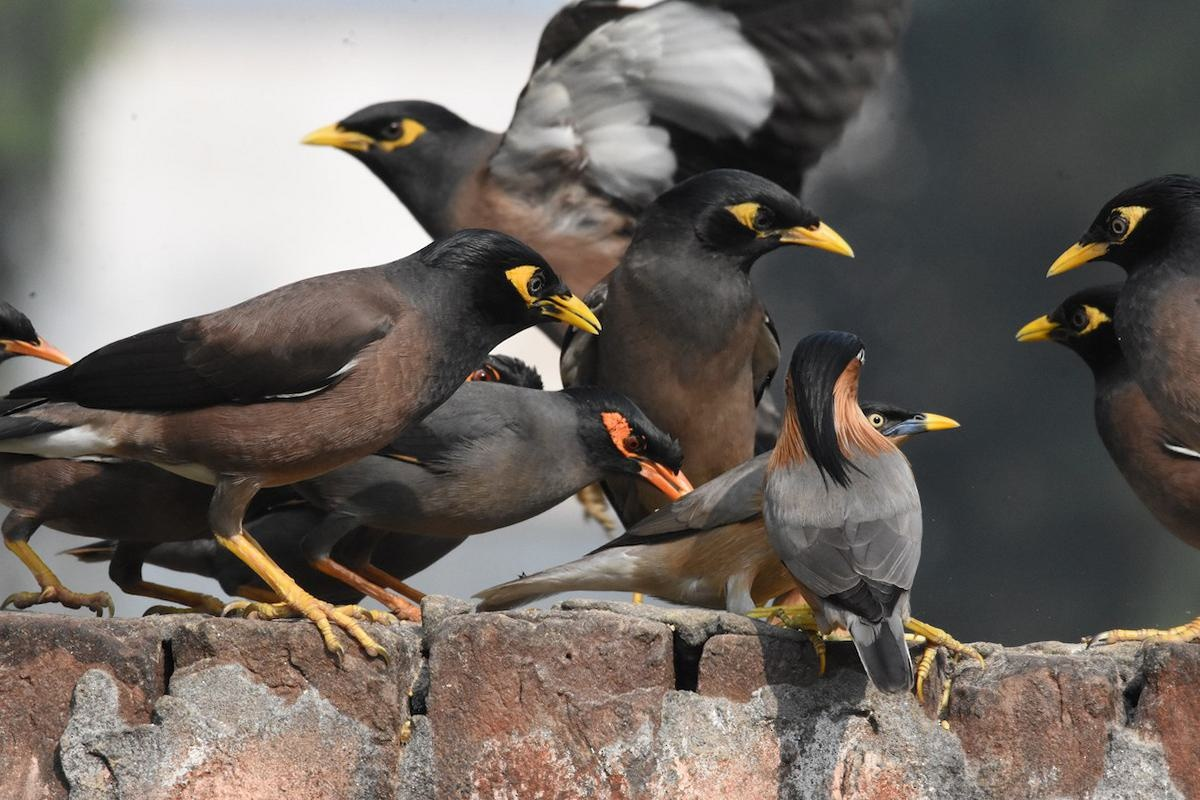myna: (37, 245, 593, 603), (605, 172, 888, 504), (296, 38, 680, 226), (1009, 303, 1200, 556), (1063, 162, 1200, 424)
